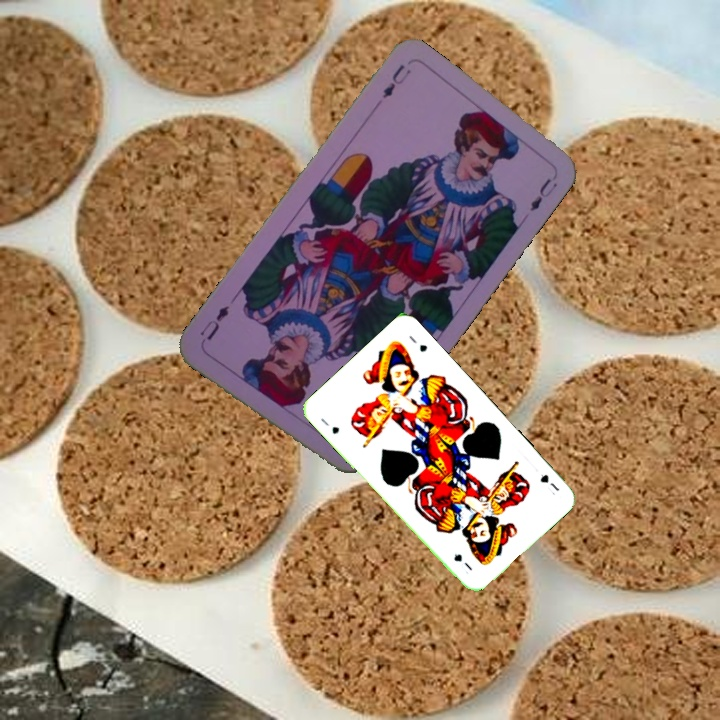EU: (378, 60, 414, 101)
GU: (536, 470, 562, 494), (316, 414, 342, 437)
